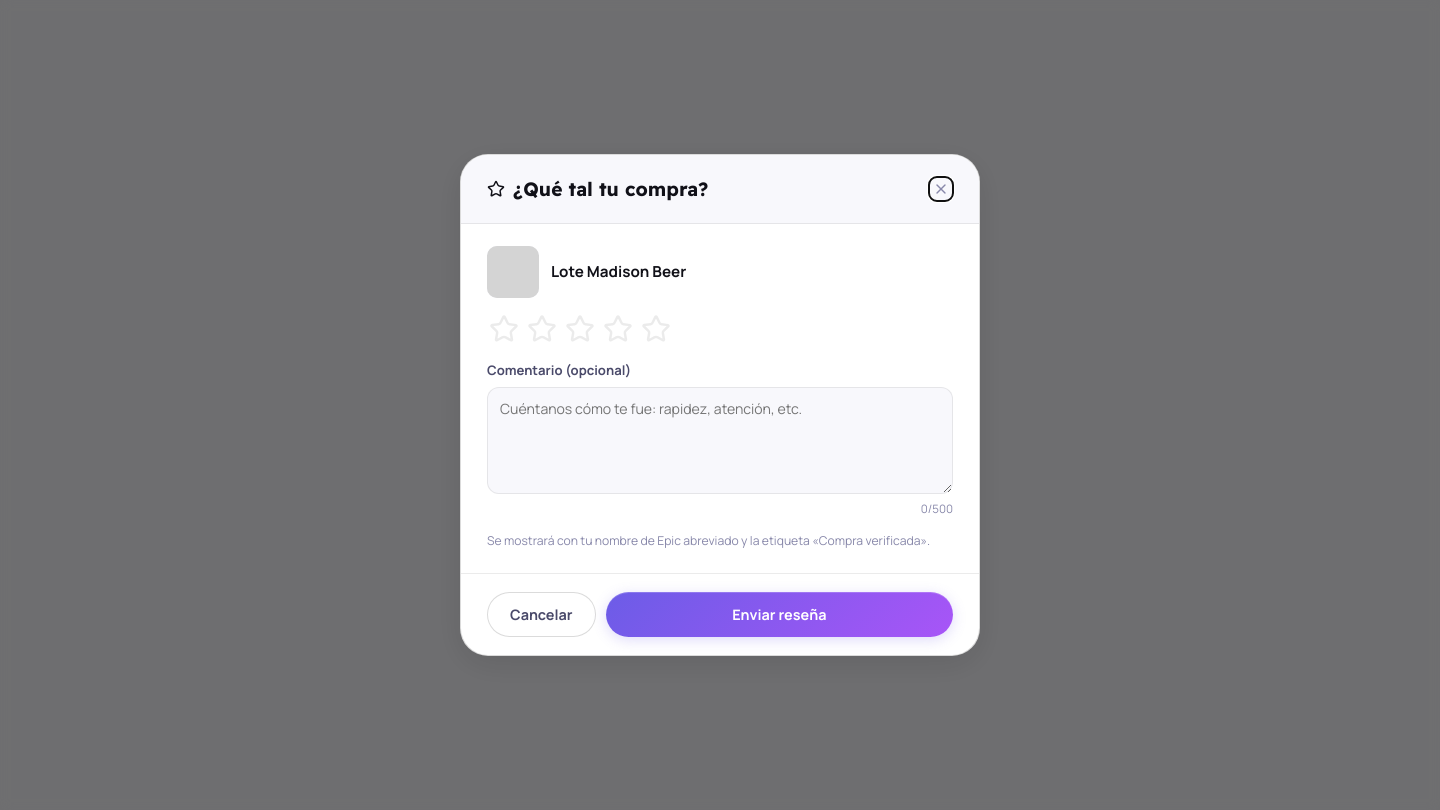
Test case: ReviewModal › pide elegir estrellas antes de enviar
Step 1. Click the button "Enviar reseña" → (779, 614), box [606, 592, 953, 636]
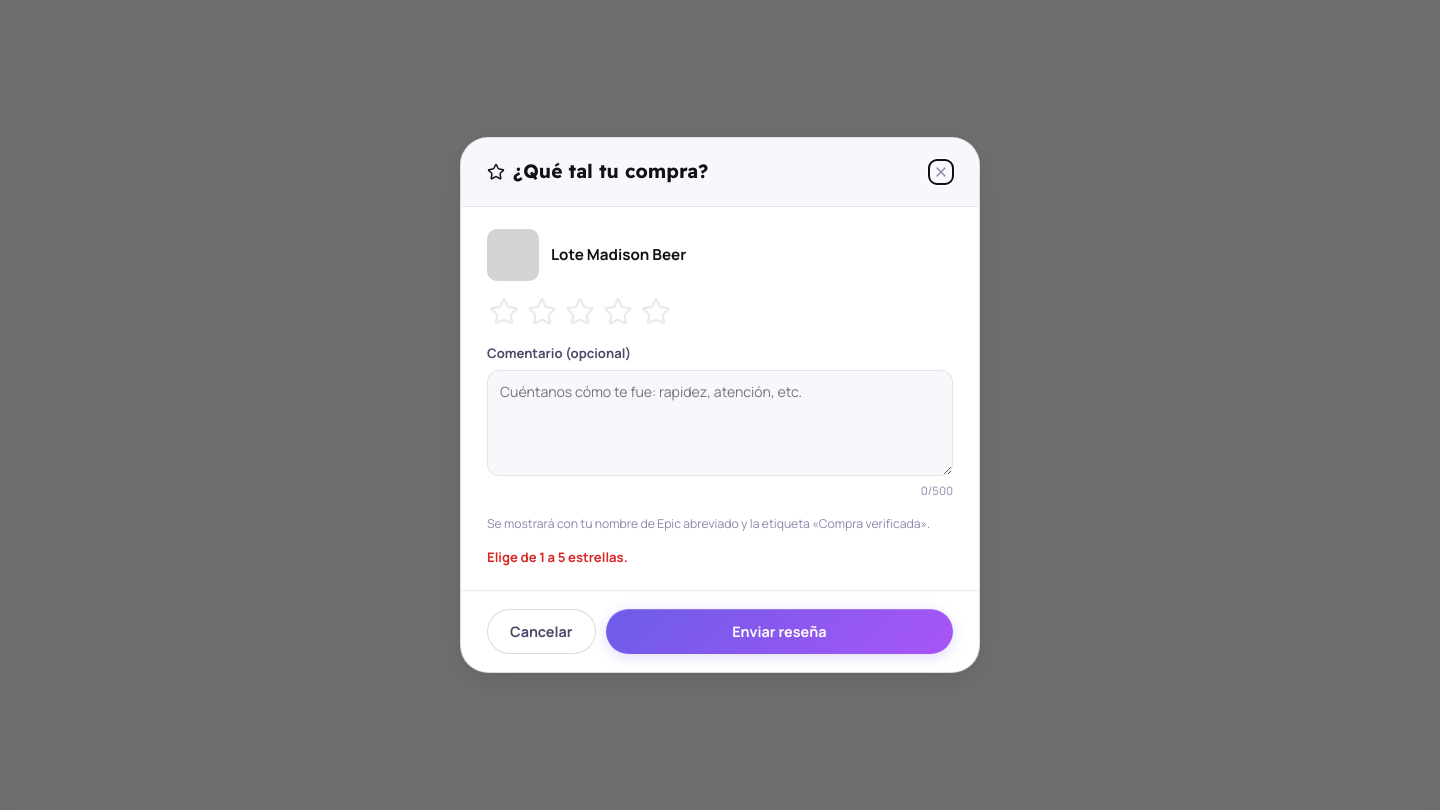
expect the message reads "Elige de 1 a 5 estrellas.": met, box [487, 548, 628, 566]
